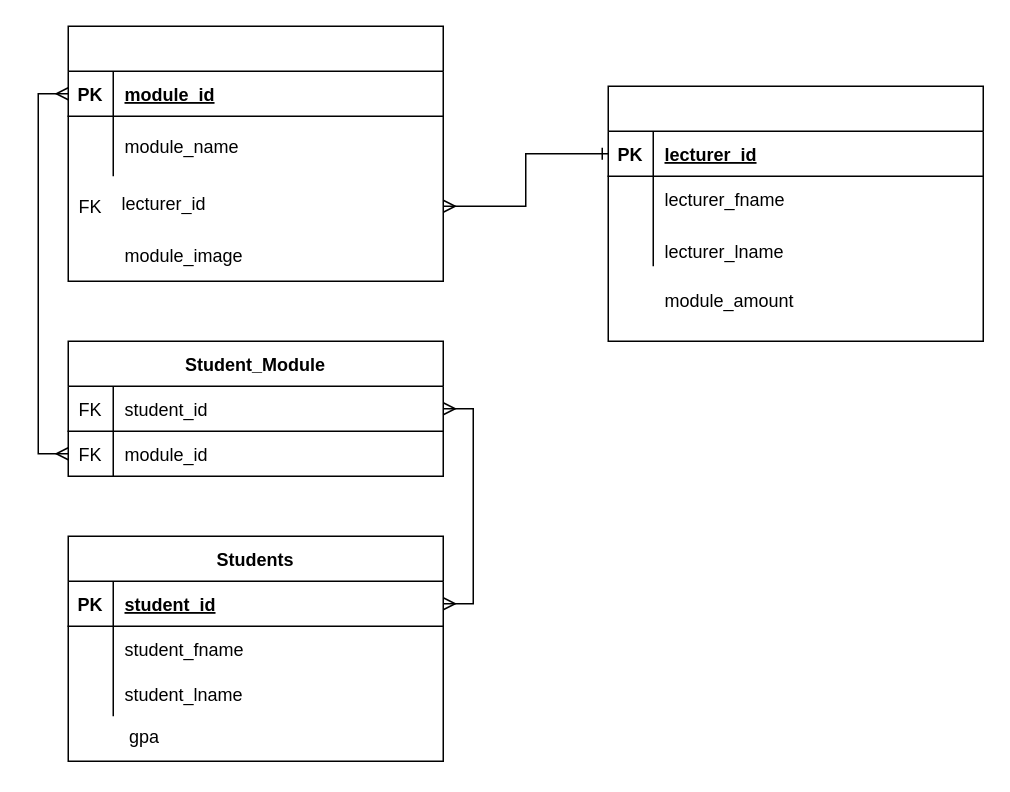
This 1010x792 diagram has some shape labels left out. The shapes that lost their labels are listed below. From the top down, each one's box as (x1, y1, x2, y2) in pixels, then its label:
(67, 25, 443, 281): Modules
(607, 85, 983, 341): Lecturers
